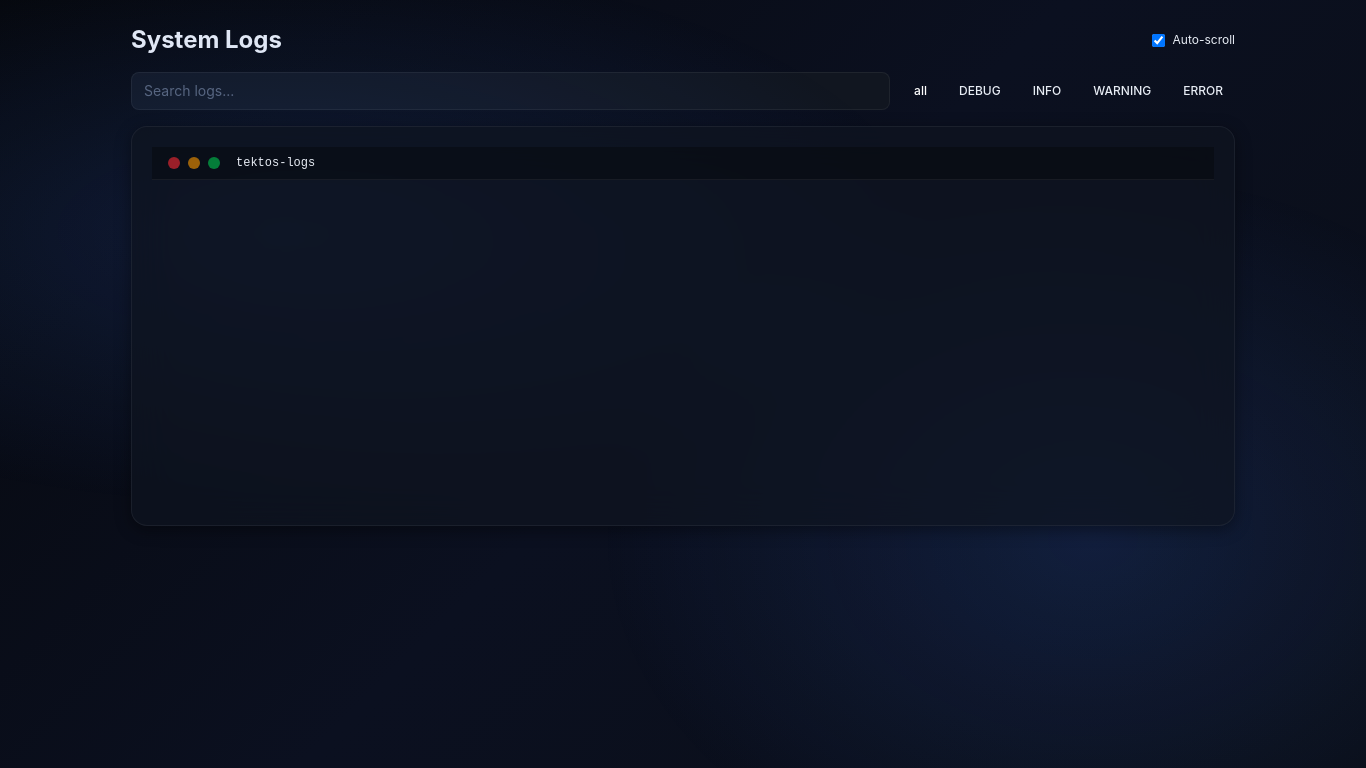
Test case: LogsPanel › case-insensitive search filter
Type "server" into the field with placeholder "Search logs..." at coordinates (511, 91), box x1=131 y1=72 x2=890 y2=110
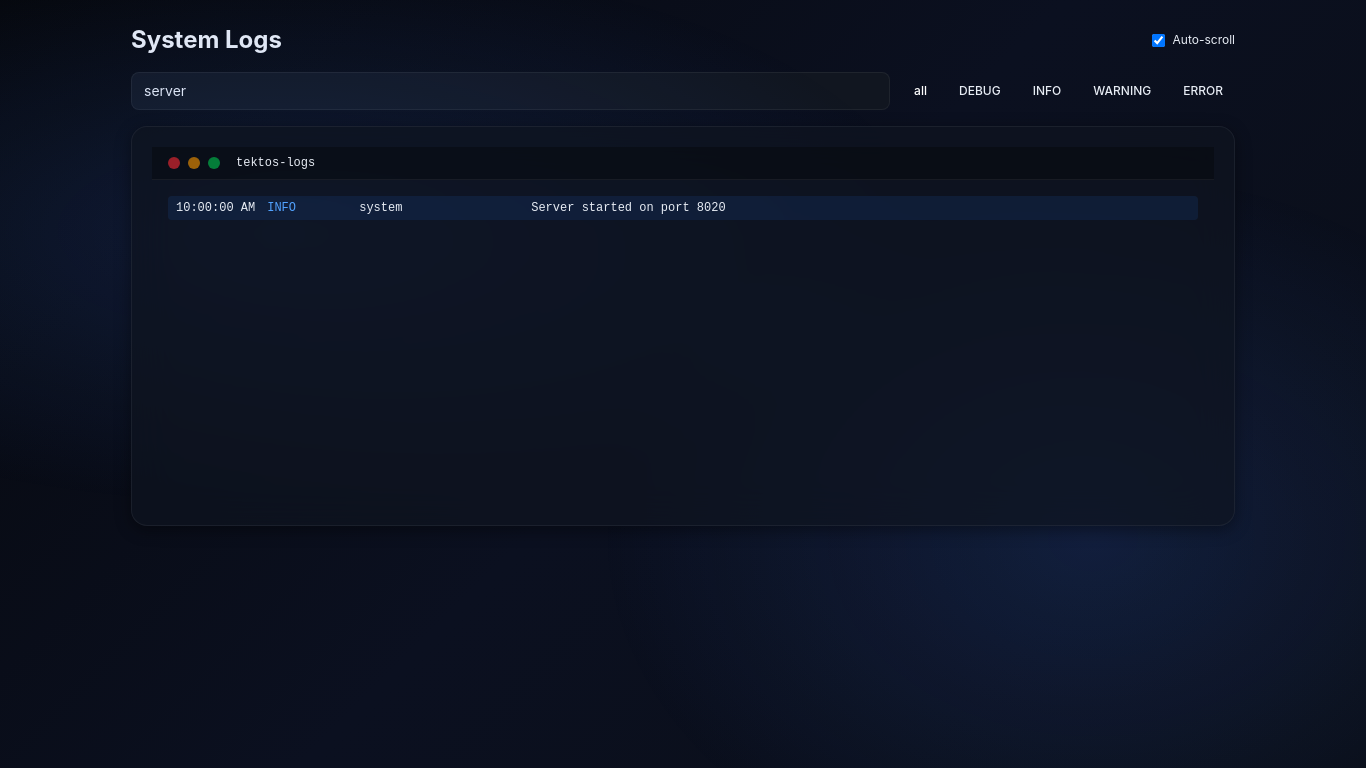
expect the text "Server started on port 8020" is shown: met, box x1=531 y1=200 x2=726 y2=216
